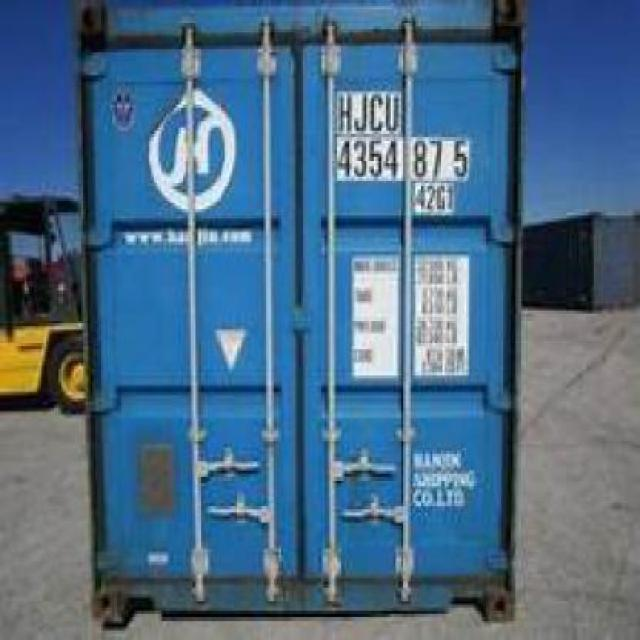ISO: (416, 185, 457, 213)
container_number: (329, 91, 471, 178)
